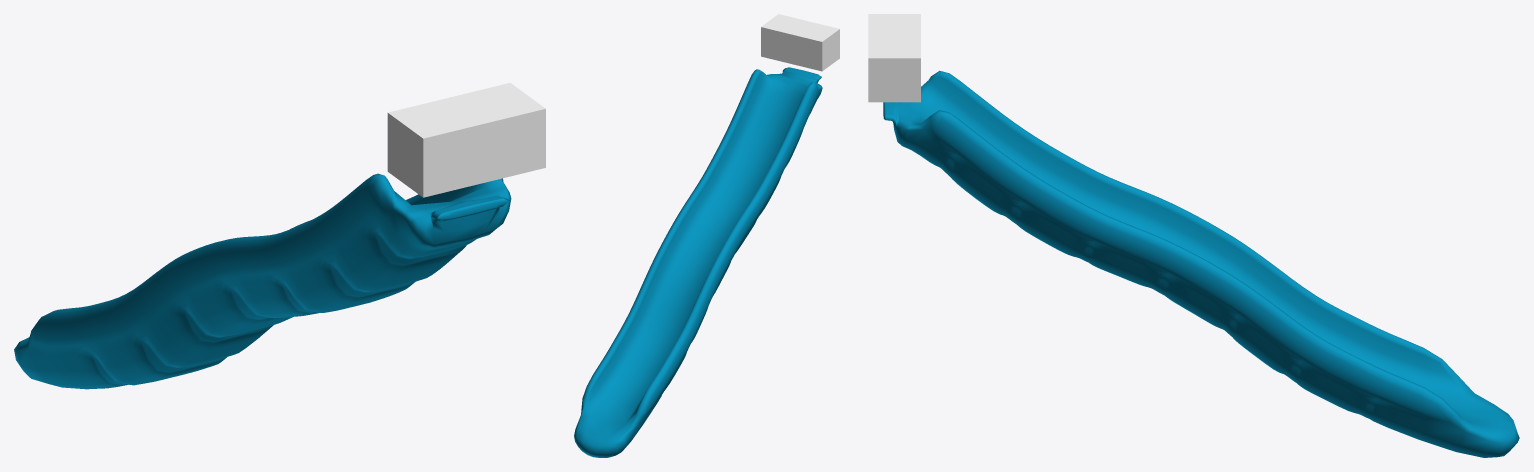
The model's file is DX Wave Slide - 7ft.glb.
3 views of the same model, side by side, from view 1: azimuth 30°, elevation 25°; view 2: azimuth 150°, elevation 25°; view 3: azimuth 270°, elevation 25° (orthographic). The views are drawn at different scales.
Visible parts, largest first — view 1: Plane035,_colorize_, joint,0,8; view 2: Plane035,_colorize_, joint,0,8; view 3: Plane035,_colorize_, joint,0,8.
Part boxes in pixels (bbox=[...]): Plane035,_colorize_: bbox=[14, 173, 511, 389]; joint,0,8: bbox=[387, 82, 545, 197]; Plane035,_colorize_: bbox=[574, 67, 822, 457]; joint,0,8: bbox=[761, 14, 839, 71]; Plane035,_colorize_: bbox=[883, 70, 1519, 457]; joint,0,8: bbox=[868, 14, 920, 102].
Bounding box in the file's own units: 0.6251 × 2.6 × 3.72.
